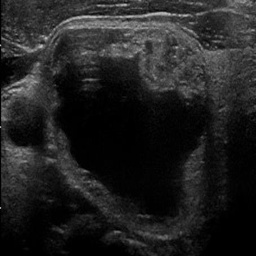mass: (47, 22, 212, 237)
